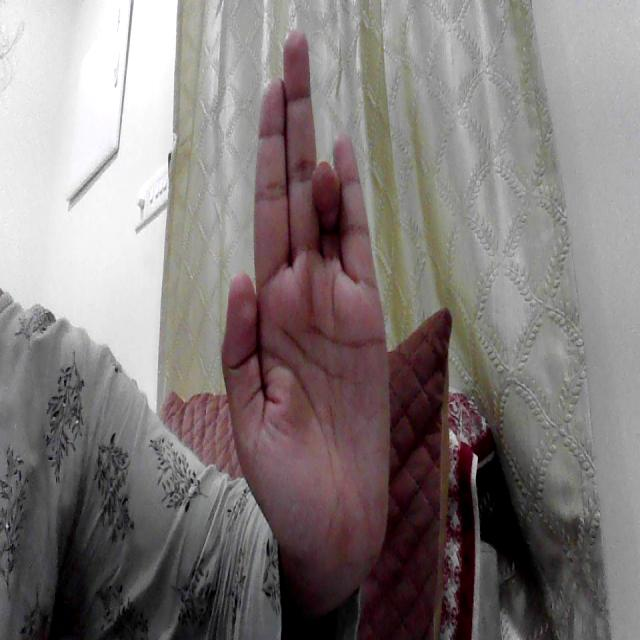Tripataka: (214, 23, 399, 546)
